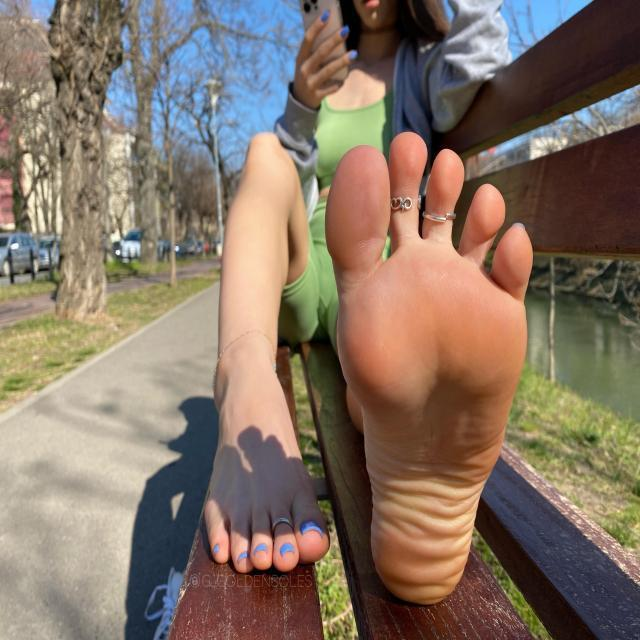Barefoots: (322, 124, 540, 611), (196, 362, 340, 588)
